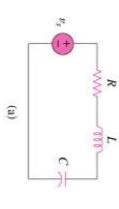Capacitor: (51, 166, 79, 193)
